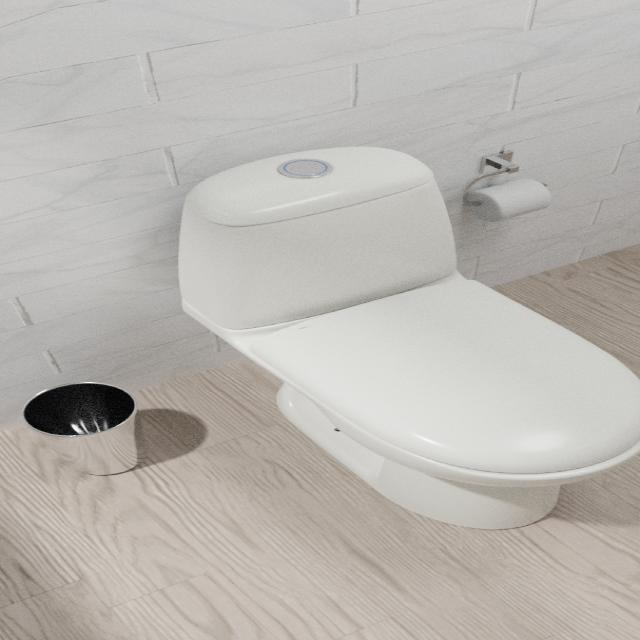toilet: (176, 145, 638, 529)
